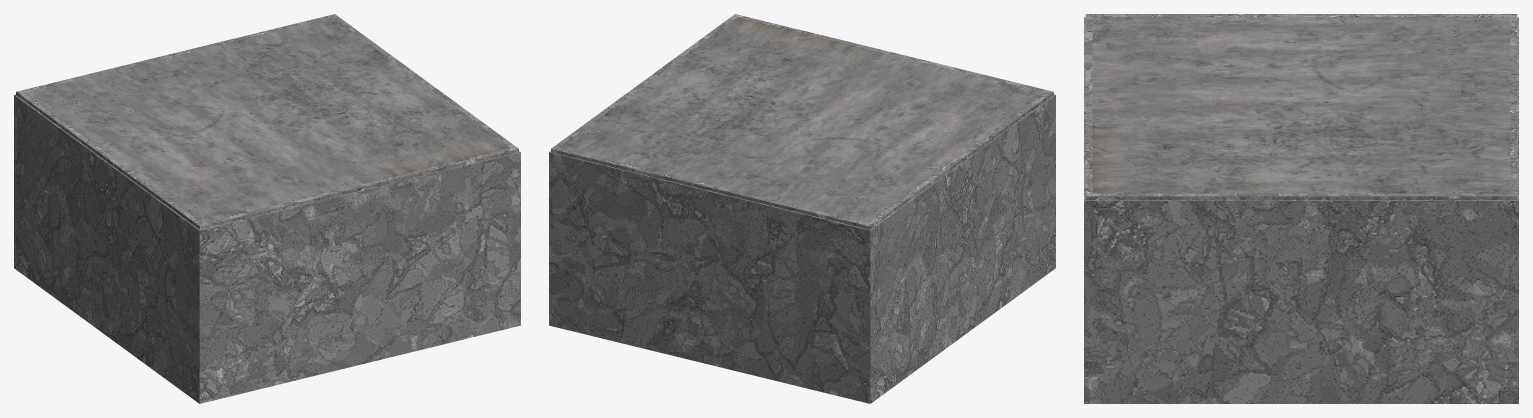
The model's file is stone_foundation_square_mid_textured_2.glb.
The picture shows the model from 3 angles, left to right: view 1: azimuth 30°, elevation 25°; view 2: azimuth 150°, elevation 25°; view 3: azimuth 270°, elevation 25°; orthographic projection. The views are drawn at different scales.
Parts seen in each view (by area): view 1: Cube; view 2: Cube; view 3: Cube.
Boxes of the visible parts, x1,y1,x2,y2 form: Cube: [14, 14, 520, 403]; Cube: [549, 14, 1055, 403]; Cube: [1084, 14, 1518, 403].
Size of the model in its own units: 2 by 1.05 by 2.
Materials: 1 (1 with a texture image).
